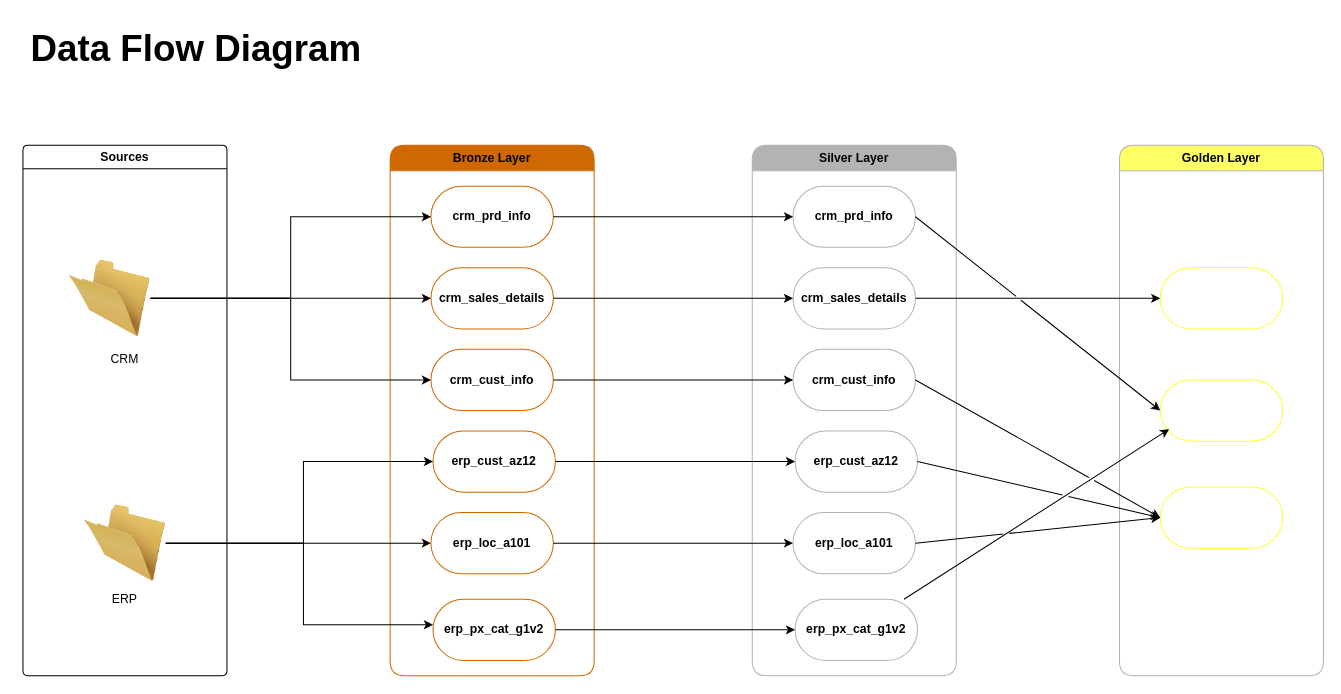
Some shapes in this 1341 by 694 pixel diagram are drawn without their labels. The centre of each missing label's shape, as x and y in pixels:
dim_ products: pixel 1221 410
dim_customers: pixel 1221 517
fact_sales: pixel 1221 298
